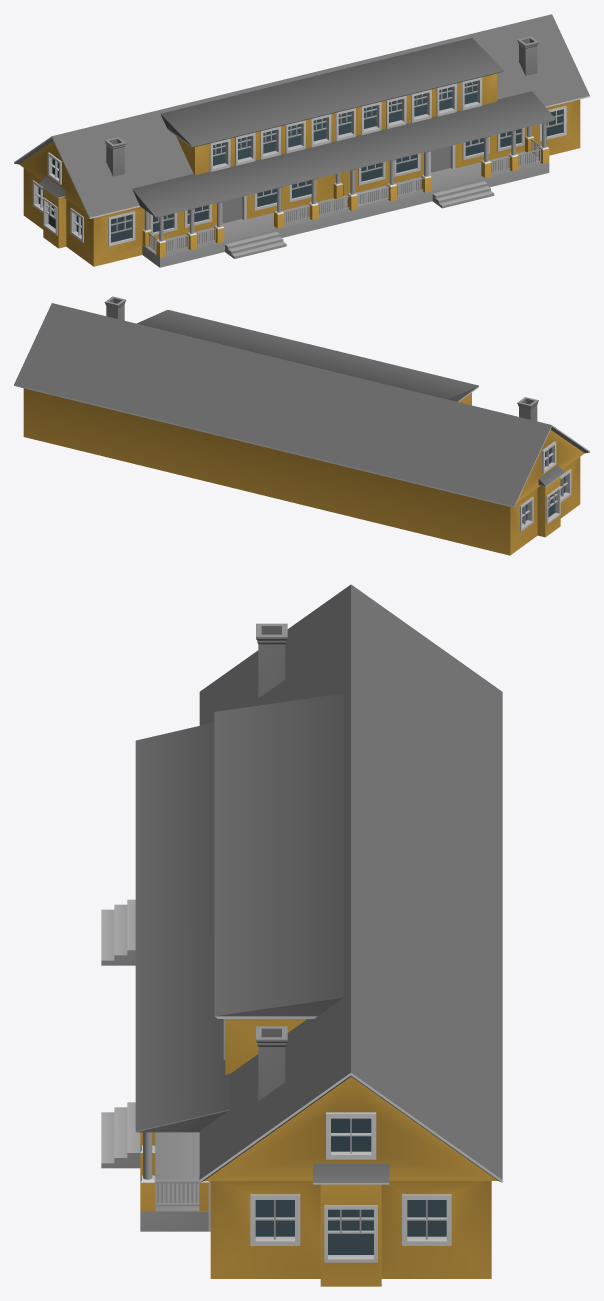
Rendered from house_023.glb.
The picture shows the model from 3 angles, top to bottom: view 1: azimuth 30°, elevation 25°; view 2: azimuth 150°, elevation 25°; view 3: azimuth 270°, elevation 25°; orthographic projection. The views are drawn at different scales.
Visible parts, largest first — view 1: house_023; view 2: house_023; view 3: house_023.
Part boxes in pixels (box(x1,y1,x2,y2)): house_023: box(14, 14, 589, 267); house_023: box(14, 296, 589, 555); house_023: box(101, 584, 502, 1286).
Size of the model in its own units: 35.48 by 7.13 by 12.16.
Materials: 1 (1 with a texture image).
